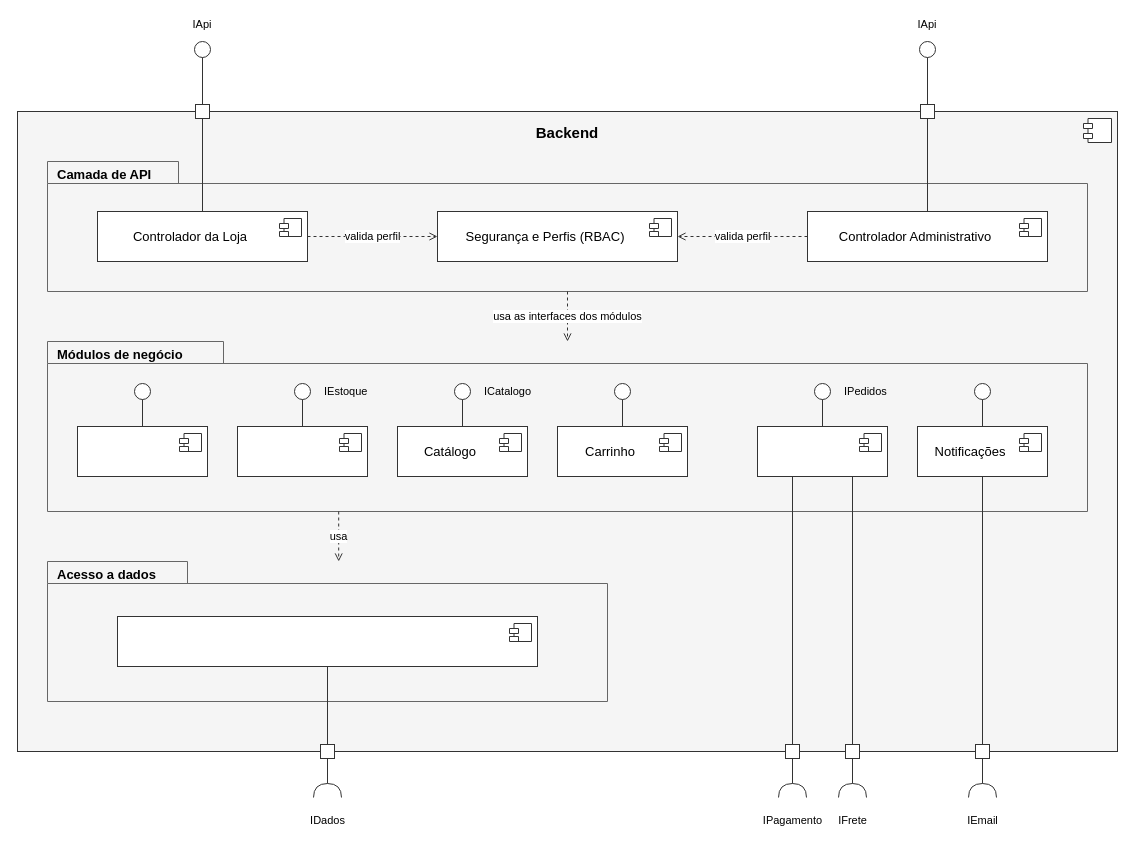
The diagram is 1135 pixels wide and 844 high, and some of its shapes have lost their labels. Each missing label, with the centre of its shape:
Estoque: pixel 302 451
ICarrinho: pixel 622 391
INotificacao: pixel 982 391
IUsuarios: pixel 142 391
Pedidos: pixel 822 451
Repositórios: pixel 327 641
Usuários: pixel 142 451
